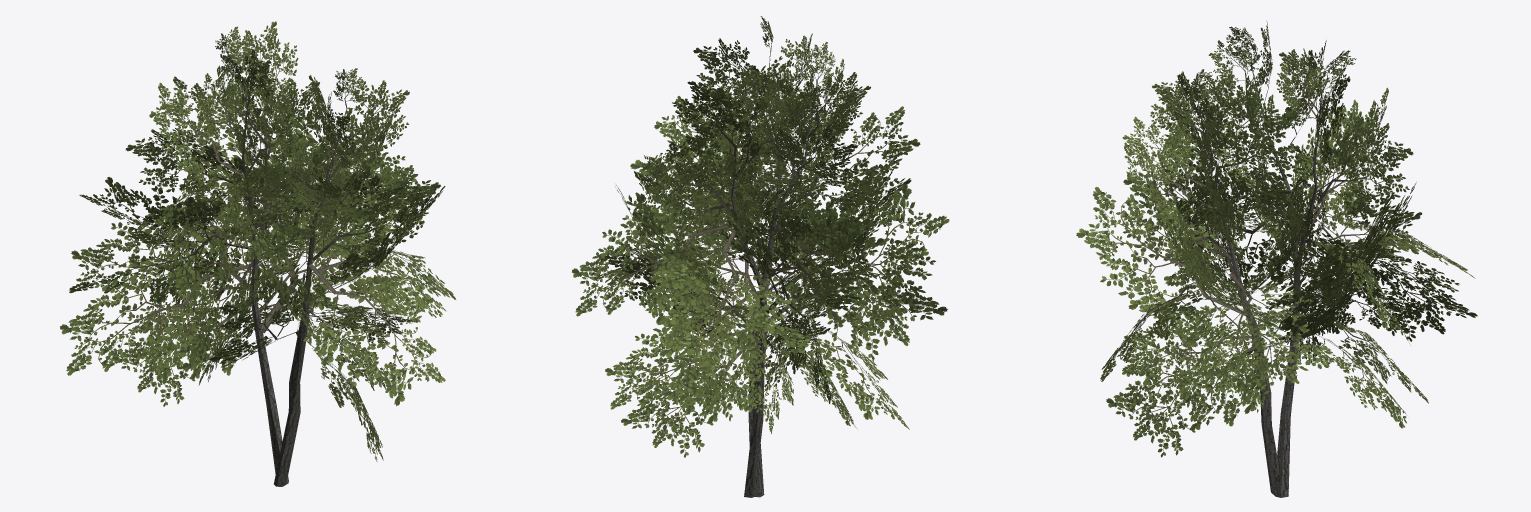
File: tree.obj
The picture shows the model from 3 angles, left to right: view 1: azimuth 30°, elevation 25°; view 2: azimuth 150°, elevation 25°; view 3: azimuth 270°, elevation 25°; orthographic projection.
Parts seen in each view (by area): view 1: Tree-01-2; view 2: Tree-01-2; view 3: Tree-01-2.
Boxes of the visible parts, left/top/right/bottom form: Tree-01-2: left=60, top=21, right=455, bottom=486; Tree-01-2: left=572, top=16, right=949, bottom=497; Tree-01-2: left=1076, top=20, right=1477, bottom=497.
Size of the model in its own units: 6.55 by 7.5 by 7.32.
Materials: 3 (3 with a texture image).
